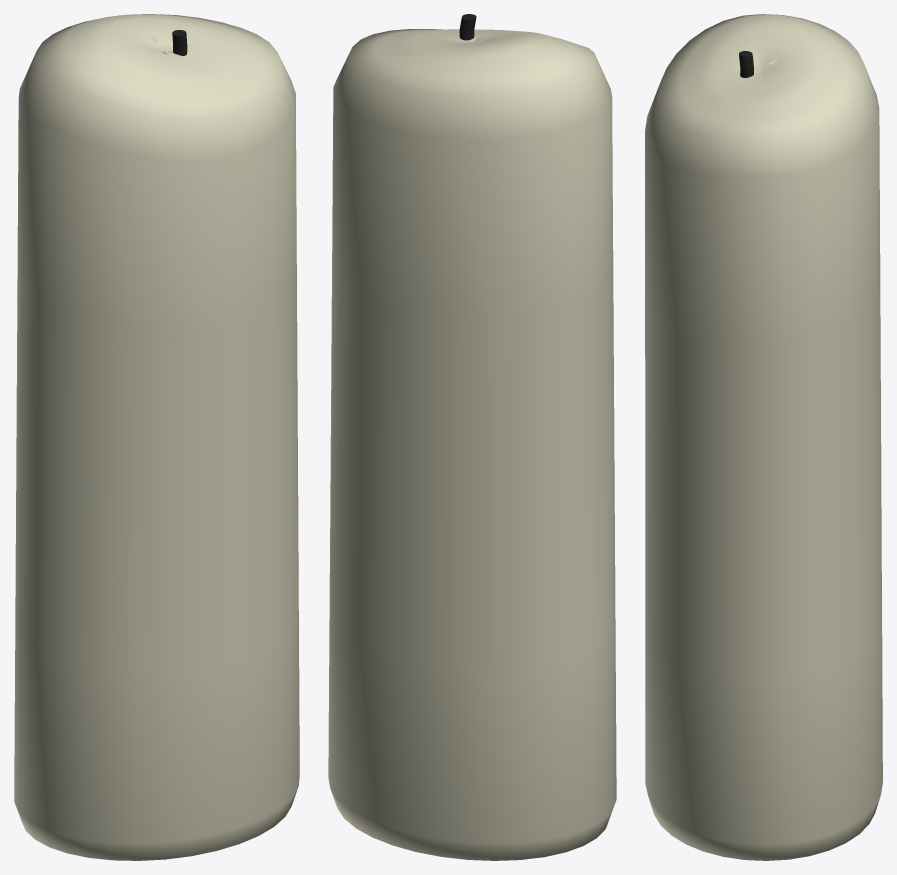
The model's file is simglecandle.fbx.
3 renders of one model, left to right at view 1: azimuth 30°, elevation 25°; view 2: azimuth 150°, elevation 25°; view 3: azimuth 270°, elevation 25°, orthographic. The views are drawn at different scales.
Parts seen in each view (by area): view 1: CANDLEBIGTALL3; view 2: CANDLEBIGTALL3; view 3: CANDLEBIGTALL3.
Part boxes in pixels (left/top/right/bottom): CANDLEBIGTALL3: left=14, top=14, right=299, bottom=860; CANDLEBIGTALL3: left=328, top=29, right=616, bottom=860; CANDLEBIGTALL3: left=645, top=14, right=882, bottom=860.
Size of the model in its own units: 127 by 366 by 105.
